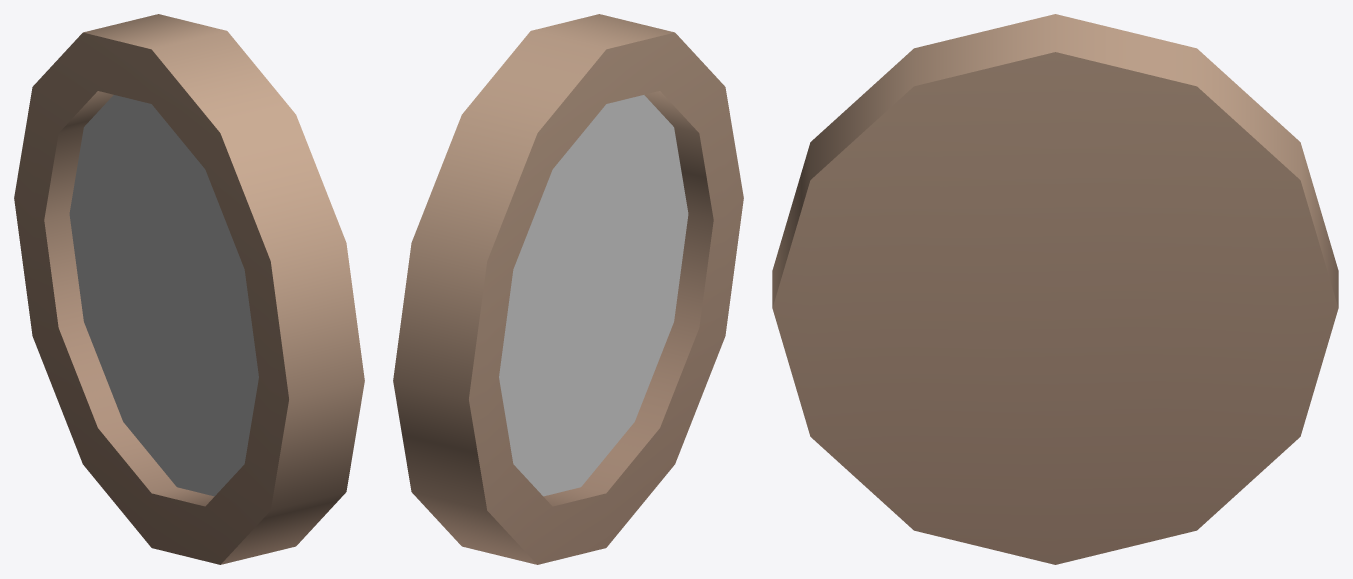
The model's file is mirror-round-bevel-small (%wall).glb.
3 views of the same model, side by side, from view 1: azimuth 30°, elevation 25°; view 2: azimuth 150°, elevation 25°; view 3: azimuth 270°, elevation 25° (orthographic). The views are drawn at different scales.
Parts seen in each view (by area): view 1: mirror-round-bevel-small (%wall); view 2: mirror-round-bevel-small (%wall); view 3: mirror-round-bevel-small (%wall).
Part boxes in pixels (bbox=[...]): mirror-round-bevel-small (%wall): bbox=[14, 14, 364, 564]; mirror-round-bevel-small (%wall): bbox=[393, 14, 743, 564]; mirror-round-bevel-small (%wall): bbox=[772, 14, 1338, 564].
Size of the model in its own units: 0.075 by 0.472 by 0.472.
